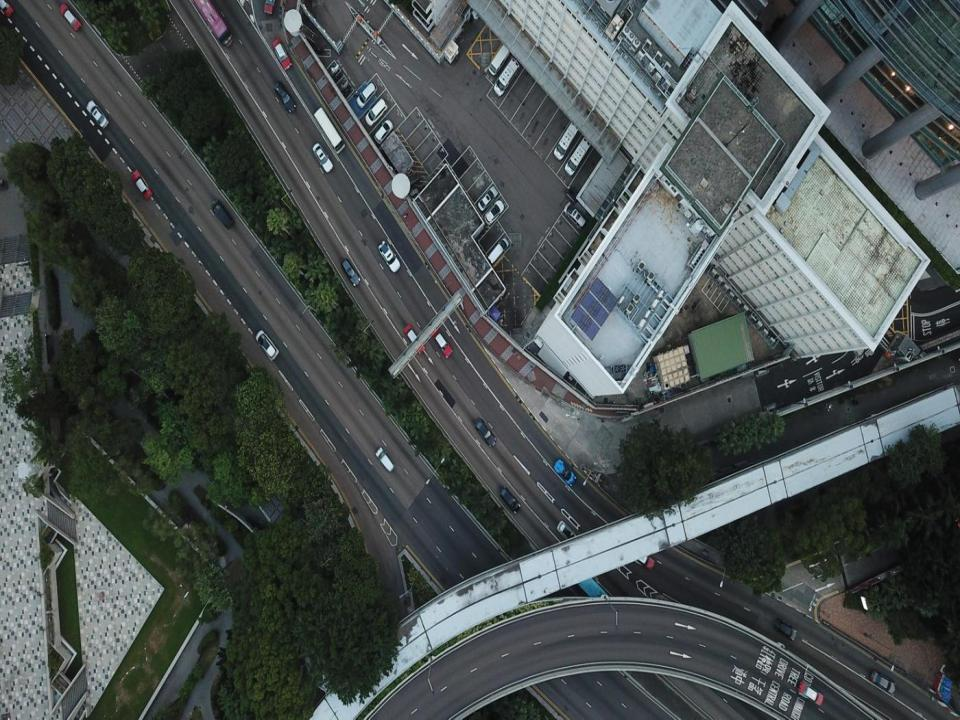bus: (566, 559, 615, 614), (192, 0, 234, 48)
car: (797, 676, 825, 705), (256, 328, 280, 361), (402, 324, 425, 356), (378, 240, 400, 272), (84, 99, 108, 128), (275, 81, 297, 112), (131, 167, 152, 199), (312, 142, 333, 174), (431, 326, 453, 356), (59, 3, 82, 31), (476, 417, 498, 446), (871, 671, 896, 696), (476, 185, 498, 213), (272, 37, 290, 71), (627, 549, 657, 569), (371, 118, 394, 144), (342, 258, 362, 287), (556, 520, 579, 545), (554, 457, 576, 482), (374, 447, 395, 473), (484, 200, 503, 223), (0, 1, 16, 24), (264, 0, 275, 18)
van: (564, 133, 590, 176), (494, 57, 520, 97), (554, 121, 578, 160), (486, 44, 509, 79), (210, 198, 235, 228), (498, 486, 522, 516), (363, 99, 389, 125), (356, 81, 379, 109), (772, 617, 796, 643), (563, 202, 586, 227), (486, 238, 508, 262)
